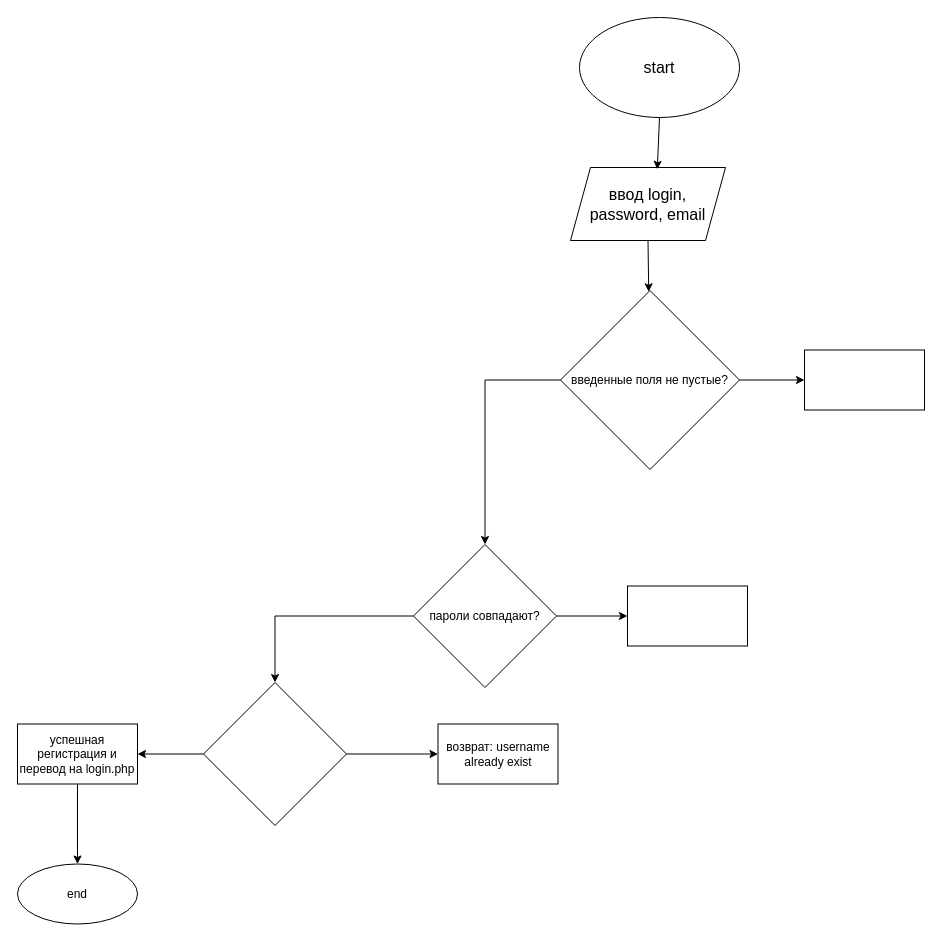
Image size: 942x942. Some labels were removed from this diagram. Here are the shapes that lost their labels. From the top down, the box of each, then its label:
(804, 349, 924, 410): возврат: emty field
(626, 585, 748, 646): возврат: password doen`t match
(202, 682, 346, 826): Есть ли login в БД?
